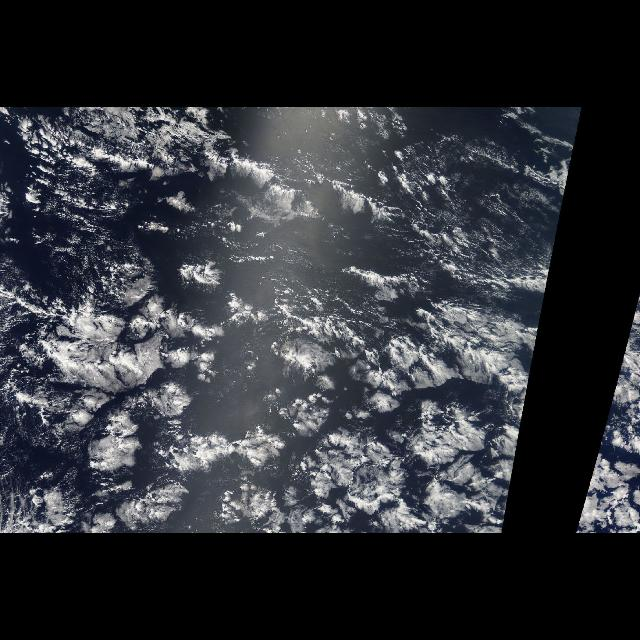Flower: (7, 255, 551, 533), (575, 296, 639, 532)
